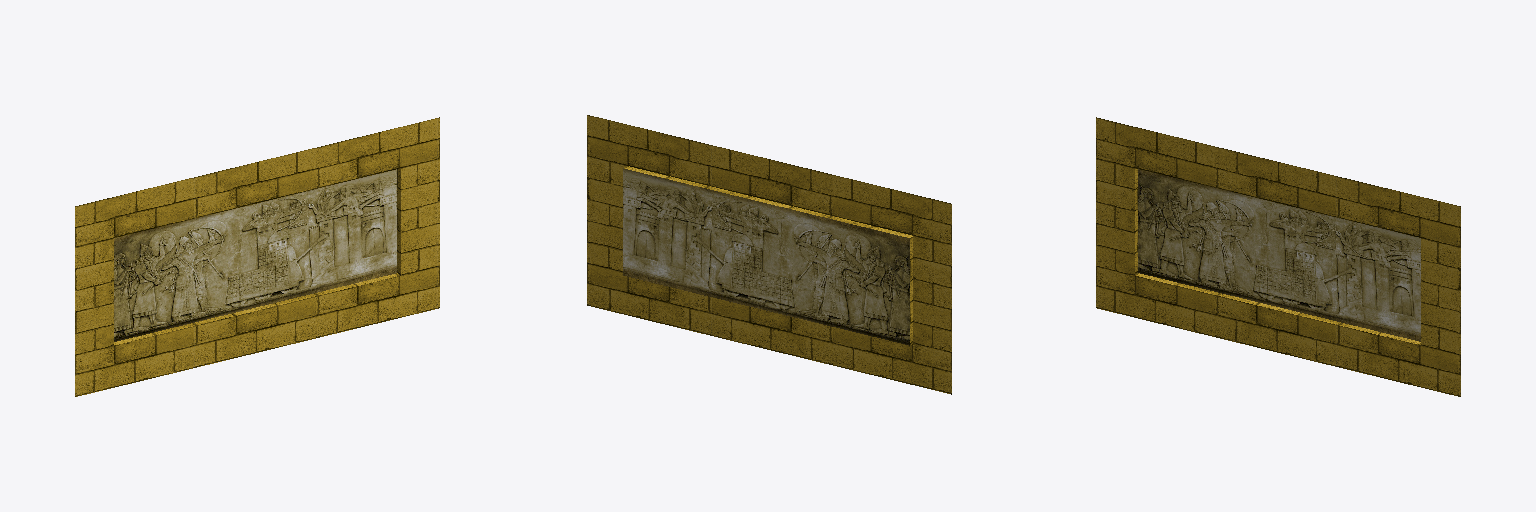
3 views of the same model, side by side, from view 1: azimuth 30°, elevation 25°; view 2: azimuth 150°, elevation 25°; view 3: azimuth 330°, elevation 25° (orthographic).
Visible parts, largest first — view 1: battleReliefWall; view 2: battleReliefWall; view 3: battleReliefWall.
Boxes of the visible parts, x1,y1,x2,y2 form: battleReliefWall: [75, 117, 439, 396]; battleReliefWall: [587, 115, 951, 394]; battleReliefWall: [1096, 117, 1460, 396].
Size of the model in its own units: 600 by 300 by 10.
Materials: 4 (4 with a texture image).